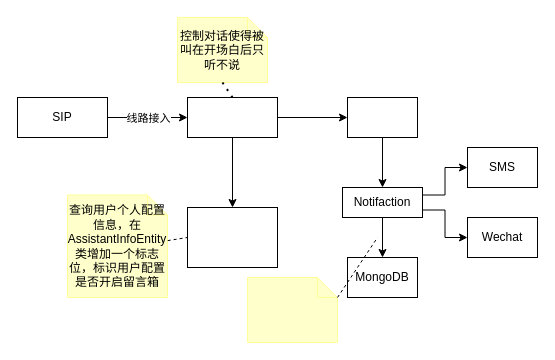
The diagram is 555 pixels wide and 360 high, and some of its shapes have lost their labels. Here are the shapes that lost their labels. From the top down, the centre of each, then its label:
the point at 232,117: AIBUS
the point at 382,117: RabbitMQ
the point at 232,237: Dialogue-manage（代码在server项目内）
the point at 292,309: 通话记录入库，此处增加标识通话记录是否为留言箱留言的字段
